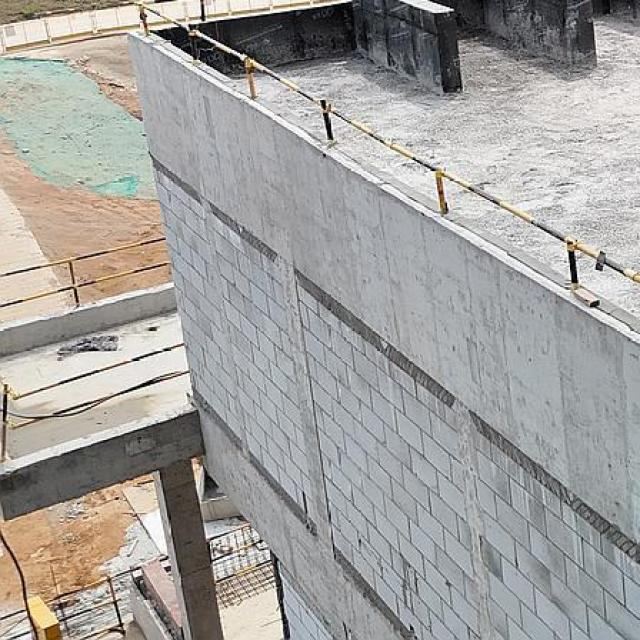edge_guardrail: (133, 0, 640, 296), (0, 340, 191, 463), (1, 235, 172, 309), (43, 565, 143, 640), (205, 522, 274, 587), (0, 607, 34, 640)
